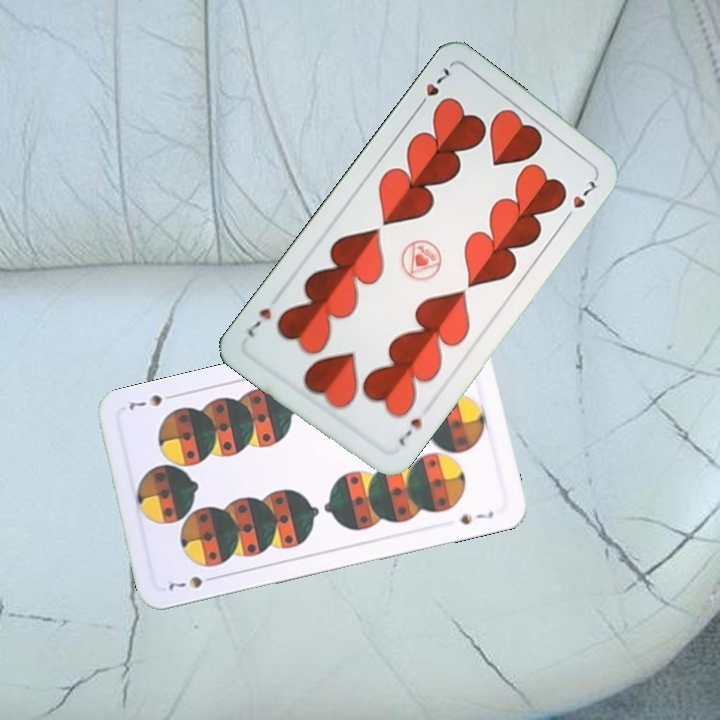H7: (412, 63, 453, 113), (394, 413, 425, 449)
S7: (164, 572, 220, 593)
